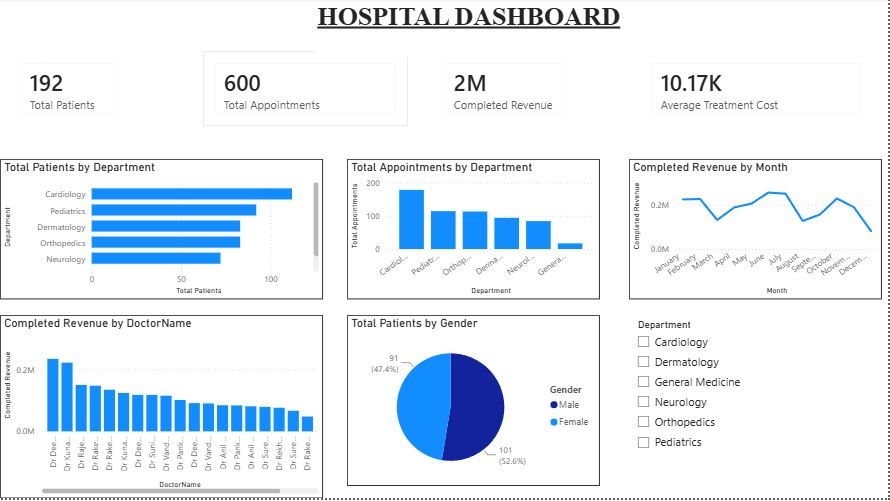

Layout of this report page (visuals, bound fields, positions):
{"tool":"powerbi","page":{"name":"Page 1","canvas":[1280,720],"ordinal":0},"visuals":[{"type":"cardVisual","fields":{"Data":["Appointments.Total Patients"]},"box":[13,76.3,169.9,108],"z":0},{"type":"cardVisual","fields":{"Data":["Appointments.Total Appointments"]},"box":[292.3,76.3,295.2,108],"z":1000},{"type":"cardVisual","fields":{"Data":["Appointments.Completed Revenue"]},"box":[623.5,76.3,204.5,108],"z":2000},{"type":"cardVisual","fields":{"Data":["Appointments.Average Treatment Cost"]},"box":[921.6,76.3,334.1,108],"z":3000},{"type":"barChart","fields":{"Category":["Doctors.Department"],"Y":["Appointments.Total Patients"]},"box":[0,231.8,465.1,201.6],"z":4000},{"type":"columnChart","fields":{"Category":["Doctors.Department"],"Y":["Appointments.Total Appointments"]},"box":[499.7,231.8,364.3,201.6],"z":5000},{"type":"columnChart","fields":{"Category":["Doctors.DoctorName"],"Y":["Appointments.Completed Revenue"]},"box":[0,456.5,465.1,263.5],"z":6000},{"type":"lineChart","fields":{"Category":["Appointments.AppointmentDate.Variation.Date Hierarchy.Month"],"Y":["Appointments.Completed Revenue"]},"box":[905.8,231.8,364.3,201.6],"z":7000},{"type":"pieChart","fields":{"Category":["Patients.Gender"],"Y":["Appointments.Total Patients"]},"box":[499.7,456.5,364.3,246.2],"z":8000},{"type":"slicer","fields":{"Values":["Doctors.Department"]},"box":[905.8,456.5,364.3,203],"z":9000},{"type":"textbox","box":[452.2,0,453.6,85],"z":9001}]}

Visuals, with their boxes in screenshot pixels (x1, y1, x2, y2), scaled from the page's 1280x720 canvas onto the 890x501 screenshot:
cardVisual - Appointments.Total Patients: bbox=[9, 53, 127, 128]
cardVisual - Appointments.Total Appointments: bbox=[203, 53, 408, 128]
cardVisual - Appointments.Completed Revenue: bbox=[434, 53, 576, 128]
cardVisual - Appointments.Average Treatment Cost: bbox=[641, 53, 873, 128]
barChart - Doctors.Department x Appointments.Total Patients: bbox=[0, 161, 323, 302]
columnChart - Doctors.Department x Appointments.Total Appointments: bbox=[347, 161, 601, 302]
columnChart - Doctors.DoctorName x Appointments.Completed Revenue: bbox=[0, 318, 323, 500]
lineChart - Appointments.AppointmentDate.Variation.Date Hierarchy.Month x Appointments.Completed Revenue: bbox=[630, 161, 883, 302]
pieChart - Patients.Gender x Appointments.Total Patients: bbox=[347, 318, 601, 489]
slicer - Doctors.Department: bbox=[630, 318, 883, 459]
textbox: bbox=[314, 0, 630, 59]
